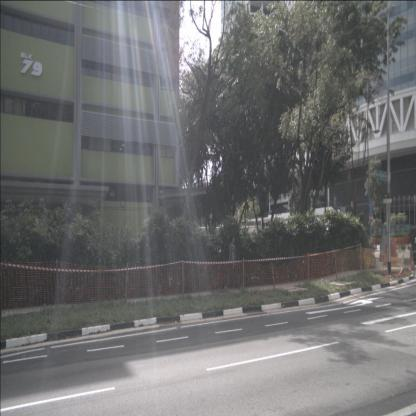human-pedestrian-adult: (224, 234, 242, 292)
movable_object-barrier: (380, 242, 396, 258)
movable_object-trafficcone: (410, 253, 416, 272)
